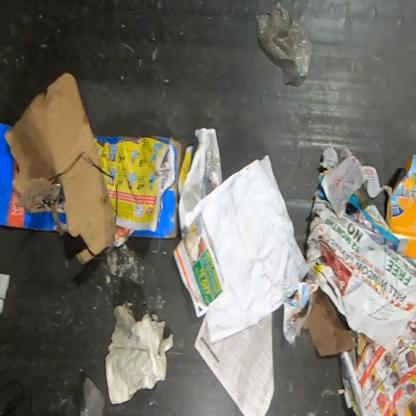cardboard: (3, 72, 116, 265), (92, 131, 183, 247), (0, 122, 70, 237), (385, 153, 415, 263)
soft_plastic: (254, 0, 313, 86)
